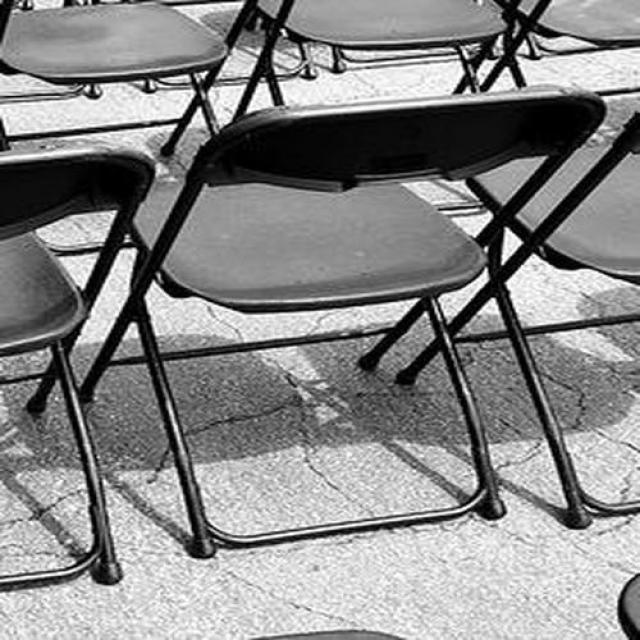chair: (0, 93, 640, 593)
